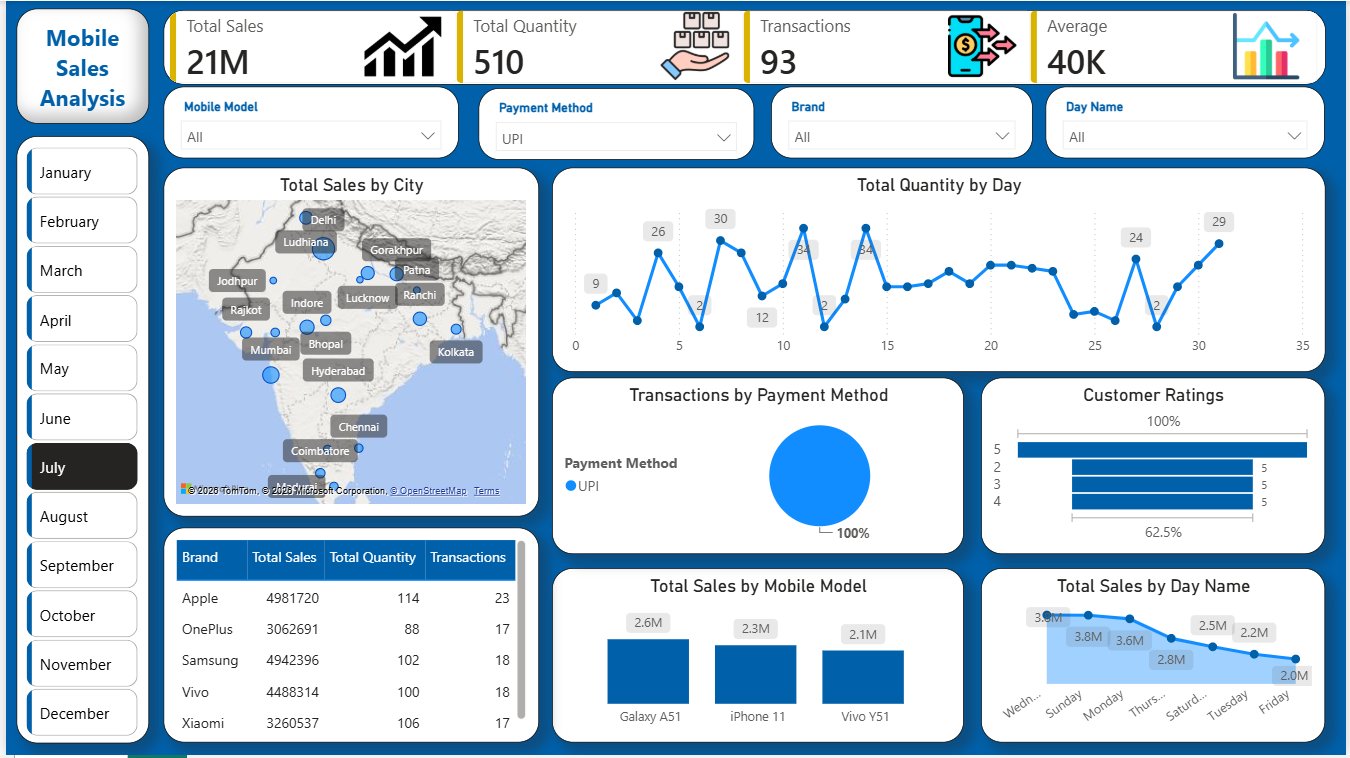

What the dashboard file says about the page in this screenshot:
{"tool":"powerbi","page":{"name":"Page 1","canvas":[1280,720],"ordinal":0},"visuals":[{"type":"shape","box":[10,128.3,126.7,580],"z":0},{"type":"advancedSlicerVisual","fields":{"Values":["Mobile_Sales_Data.Date.Variation.Date Hierarchy.Month"]},"box":[15,135,116.7,573.3],"z":1000},{"type":"map","fields":{"Category":["Mobile_Sales_Data.City"],"Size":["Mobile_Sales_Data.Total Sales"]},"box":[150,158.3,358.3,333.3],"z":2000},{"type":"lineChart","fields":{"Y":["Mobile_Sales_Data.Total Quantity"],"Category":["Mobile_Sales_Data.Date.Variation.Date Hierarchy.Month","Mobile_Sales_Data.Date.Variation.Date Hierarchy.Day"]},"box":[521.7,158.3,738.3,195],"z":3000},{"type":"clusteredColumnChart","fields":{"Category":["Mobile_Sales_Data.Mobile Model"],"Y":["Mobile_Sales_Data.Total Sales"]},"box":[521.7,541.7,393.3,166.7],"z":4000},{"type":"textbox","box":[10,6.7,126.7,110],"z":5000},{"type":"pieChart","fields":{"Category":["Mobile_Sales_Data.Payment Method"],"Y":["Mobile_Sales_Data.Transactions"]},"box":[521.7,360,393.3,168.3],"z":6000},{"type":"funnel","title":"Customer Ratings","fields":{"Category":["Mobile_Sales_Data.Customer Ratings"],"Y":["CountNonNull(Mobile_Sales_Data.Customer Ratings)"]},"box":[931.7,360,328.3,168.3],"z":7000},{"type":"areaChart","fields":{"Category":["Mobile_Sales_Data.Day Name"],"Y":["Mobile_Sales_Data.Total Sales"]},"box":[931.7,541.7,328.3,166.7],"z":8000},{"type":"tableEx","fields":{"Values":["Mobile_Sales_Data.Brand","Mobile_Sales_Data.Total Sales","Mobile_Sales_Data.Total Quantity","Mobile_Sales_Data.Transactions"]},"box":[150,503.3,358.3,205],"z":9000},{"type":"slicer","fields":{"Values":["Mobile_Sales_Data.Mobile Model"]},"box":[150,81.7,281.7,68.3],"z":10000},{"type":"slicer","fields":{"Values":["Mobile_Sales_Data.Payment Method"]},"box":[451.7,83.3,263.3,68.3],"z":11000},{"type":"slicer","fields":{"Values":["Mobile_Sales_Data.Brand"]},"box":[730,81.7,250,68.3],"z":12000},{"type":"slicer","fields":{"Values":["Mobile_Sales_Data.Day Name"]},"box":[993.3,81.7,266.7,68.3],"z":13000},{"type":"cardVisual","fields":{"Data":["Mobile_Sales_Data.Total Sales","Mobile_Sales_Data.Total Quantity","Mobile_Sales_Data.Transactions","Mobile_Sales_Data.Average"]},"box":[150,8,1110,71],"z":14000},{"type":"image","box":[625,5,66.7,76.7],"z":15000},{"type":"image","box":[1161.7,11.7,83.3,63.3],"z":16000},{"type":"image","box":[900,1.7,65,83.3],"z":17000},{"type":"image","box":[341.7,3.3,73.3,81.7],"z":18000}]}

Visuals, with their boxes in screenshot pixels (x1, y1, x2, y2), scaled from the page's 1280x720 canvas onto the 1350x758 screenshot:
shape: bbox(11, 135, 144, 746)
advancedSlicerVisual - Mobile_Sales_Data.Date.Variation.Date Hierarchy.Month: bbox(16, 142, 139, 746)
map - Mobile_Sales_Data.City x Mobile_Sales_Data.Total Sales: bbox(158, 167, 536, 518)
lineChart - Mobile_Sales_Data.Total Quantity x Mobile_Sales_Data.Date.Variation.Date Hierarchy.Month: bbox(550, 167, 1329, 372)
clusteredColumnChart - Mobile_Sales_Data.Mobile Model x Mobile_Sales_Data.Total Sales: bbox(550, 570, 965, 746)
textbox: bbox(11, 7, 144, 123)
pieChart - Mobile_Sales_Data.Payment Method x Mobile_Sales_Data.Transactions: bbox(550, 379, 965, 556)
"Customer Ratings" funnel: bbox(983, 379, 1329, 556)
areaChart - Mobile_Sales_Data.Day Name x Mobile_Sales_Data.Total Sales: bbox(983, 570, 1329, 746)
tableEx - Mobile_Sales_Data.Brand x Mobile_Sales_Data.Total Sales: bbox(158, 530, 536, 746)
slicer - Mobile_Sales_Data.Mobile Model: bbox(158, 86, 455, 158)
slicer - Mobile_Sales_Data.Payment Method: bbox(476, 88, 754, 160)
slicer - Mobile_Sales_Data.Brand: bbox(770, 86, 1034, 158)
slicer - Mobile_Sales_Data.Day Name: bbox(1048, 86, 1329, 158)
cardVisual - Mobile_Sales_Data.Total Sales x Mobile_Sales_Data.Total Quantity: bbox(158, 8, 1329, 83)
image: bbox(659, 5, 730, 86)
image: bbox(1225, 12, 1313, 79)
image: bbox(949, 2, 1018, 89)
image: bbox(360, 3, 438, 89)
